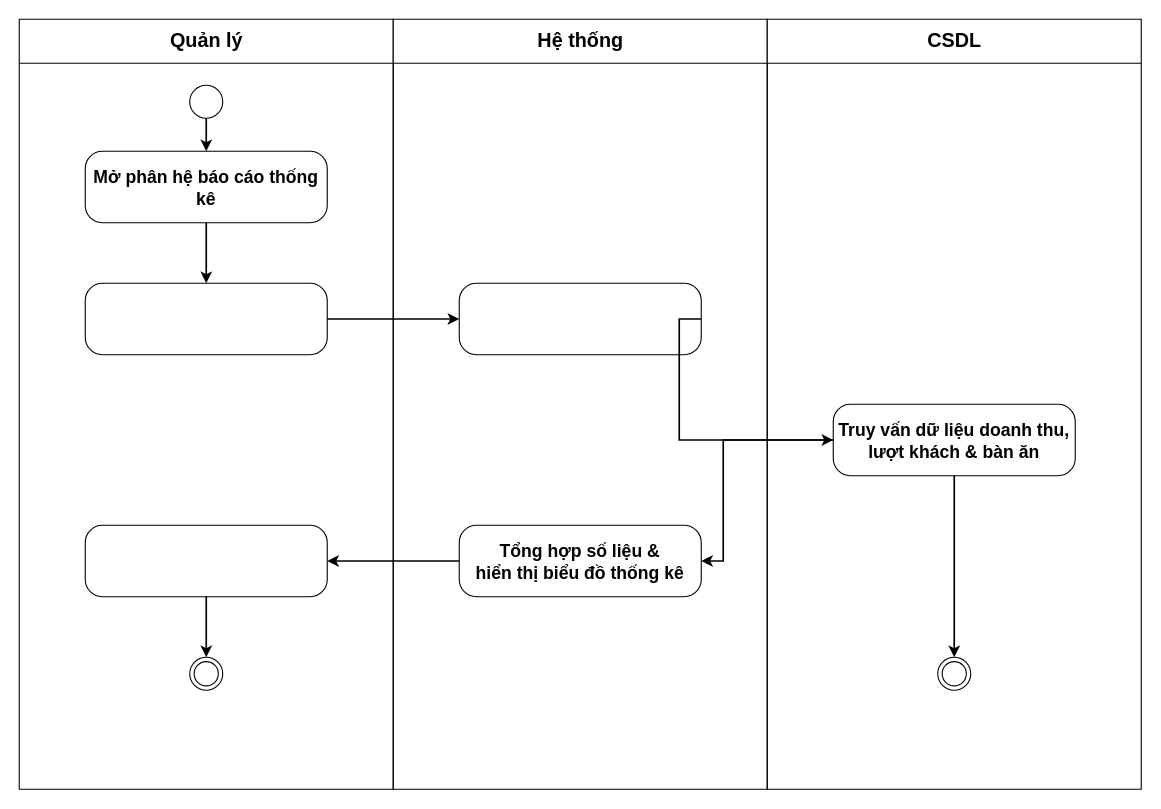
The diagram is 1161 pixels wide and 809 high, and some of its shapes have lost their labels. The shapes that lost their labels are listed below. From the top down, each one's centre as x and y in pixels, then its label:
pixel 205 318: Chọn mốc thời gian & tiêu chí báo cáo
pixel 579 318: Nhận tham số tra cứu & gửi truy vấn
pixel 205 560: Xem biểu đồ số liệu & xuất file báo cáo (Excel/PDF)
